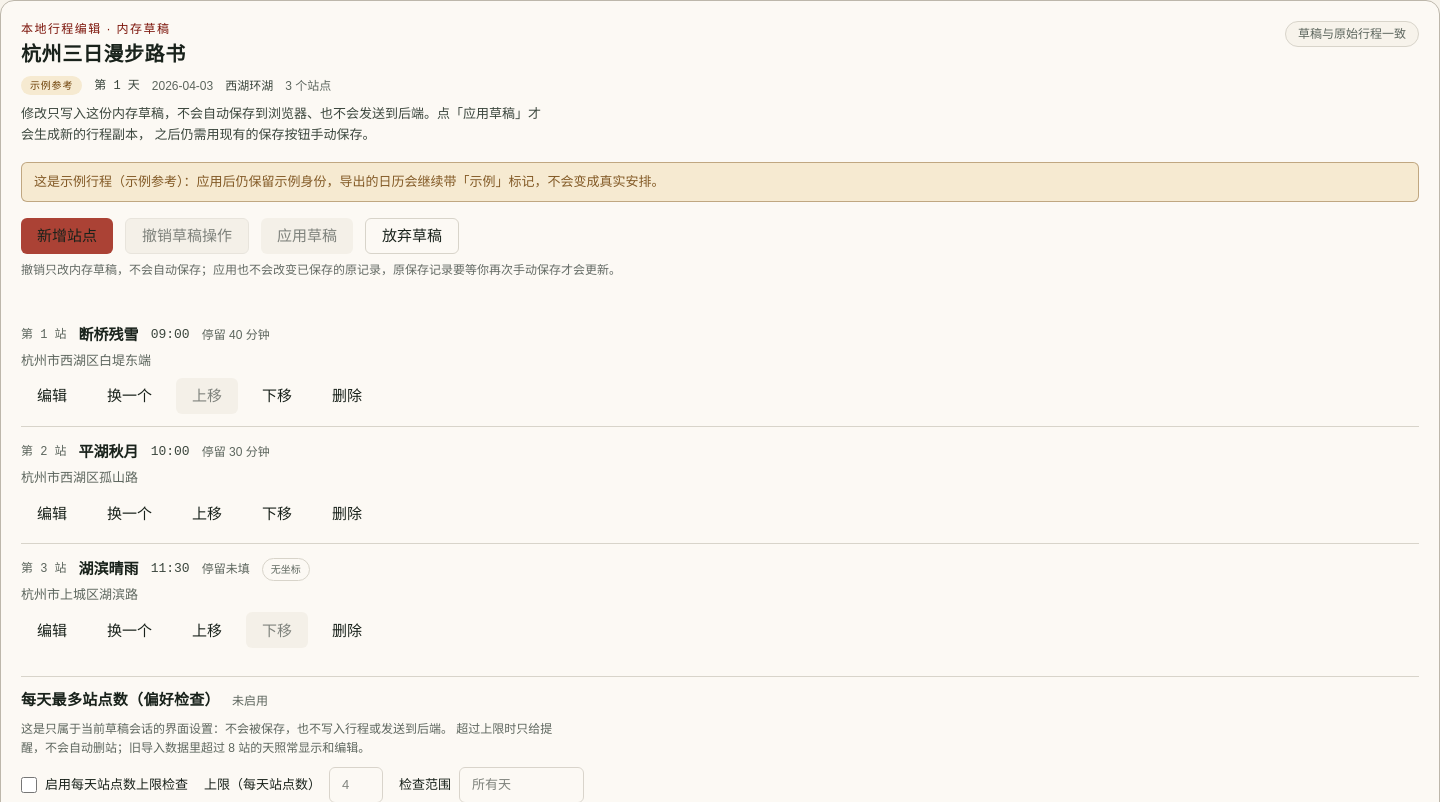
Test: TripDraftEditor · 换一个入口 › 每个站点都有「换一个」入口，点开后展开替换面板
The image size is (1440, 802).
Click the button with test id "stop-swap-open-s1" at (130, 396), box top-left (91, 378), bottom-right (168, 414)
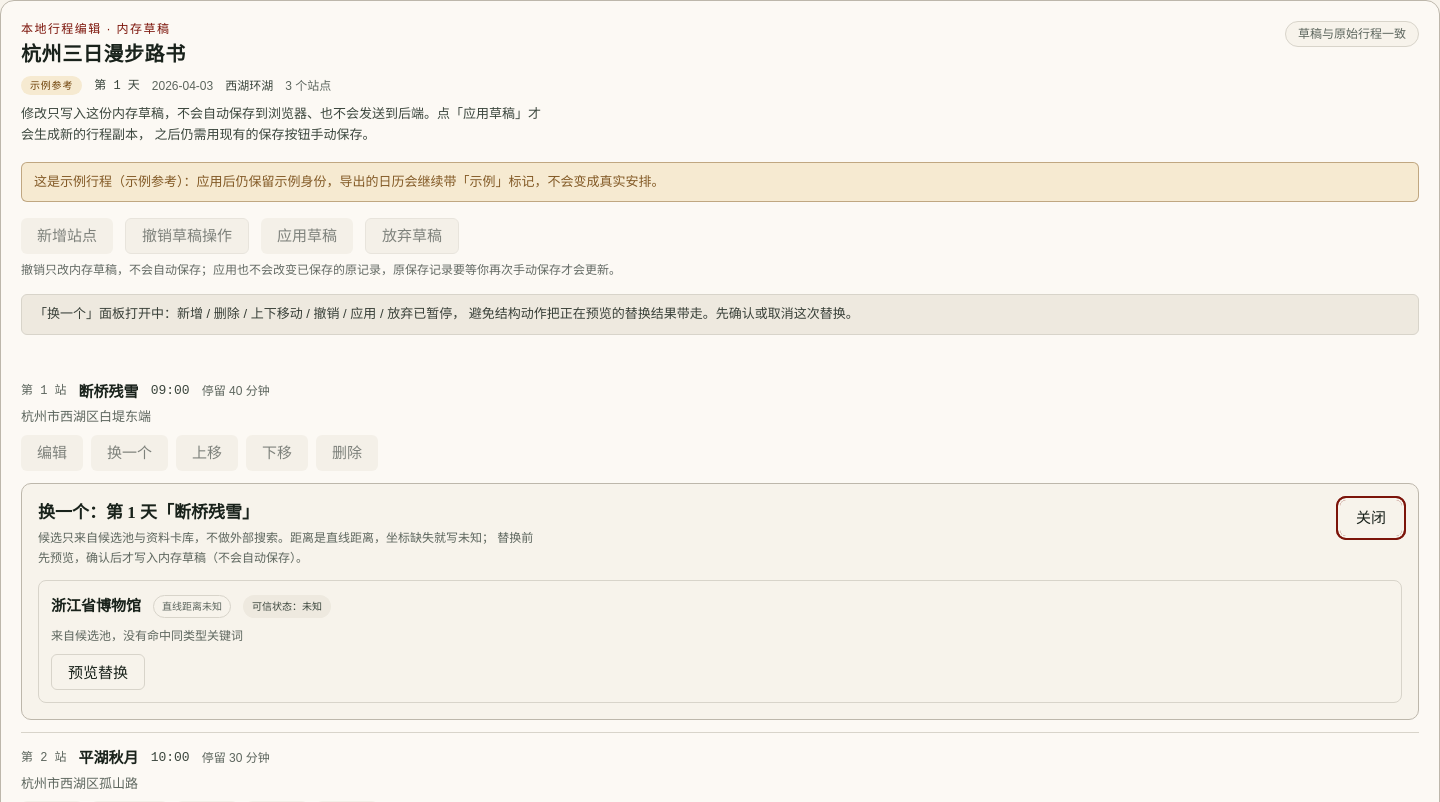
Check: the element with test id "stop-swap-panel" is shown, box top-left (21, 483), bottom-right (1419, 720)
Check: the text "浙江省博物馆" is shown, box top-left (51, 593), bottom-right (141, 619)
